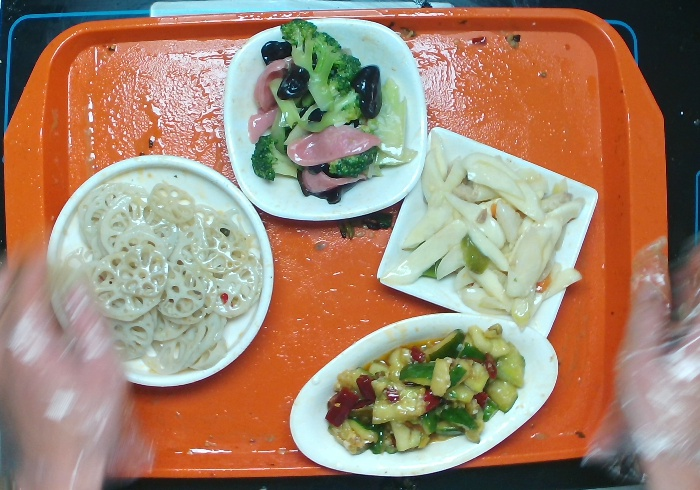HZYJPL-Si_Fang_Die: (375, 125, 601, 340)
HZYJPL-Si_Fang_Yuan_Die: (222, 15, 428, 223)
HZYJPL-Xiao_Yu_Die: (287, 311, 560, 477)
HZYJPL-Xiao_Yuan_Die: (45, 153, 274, 388)
